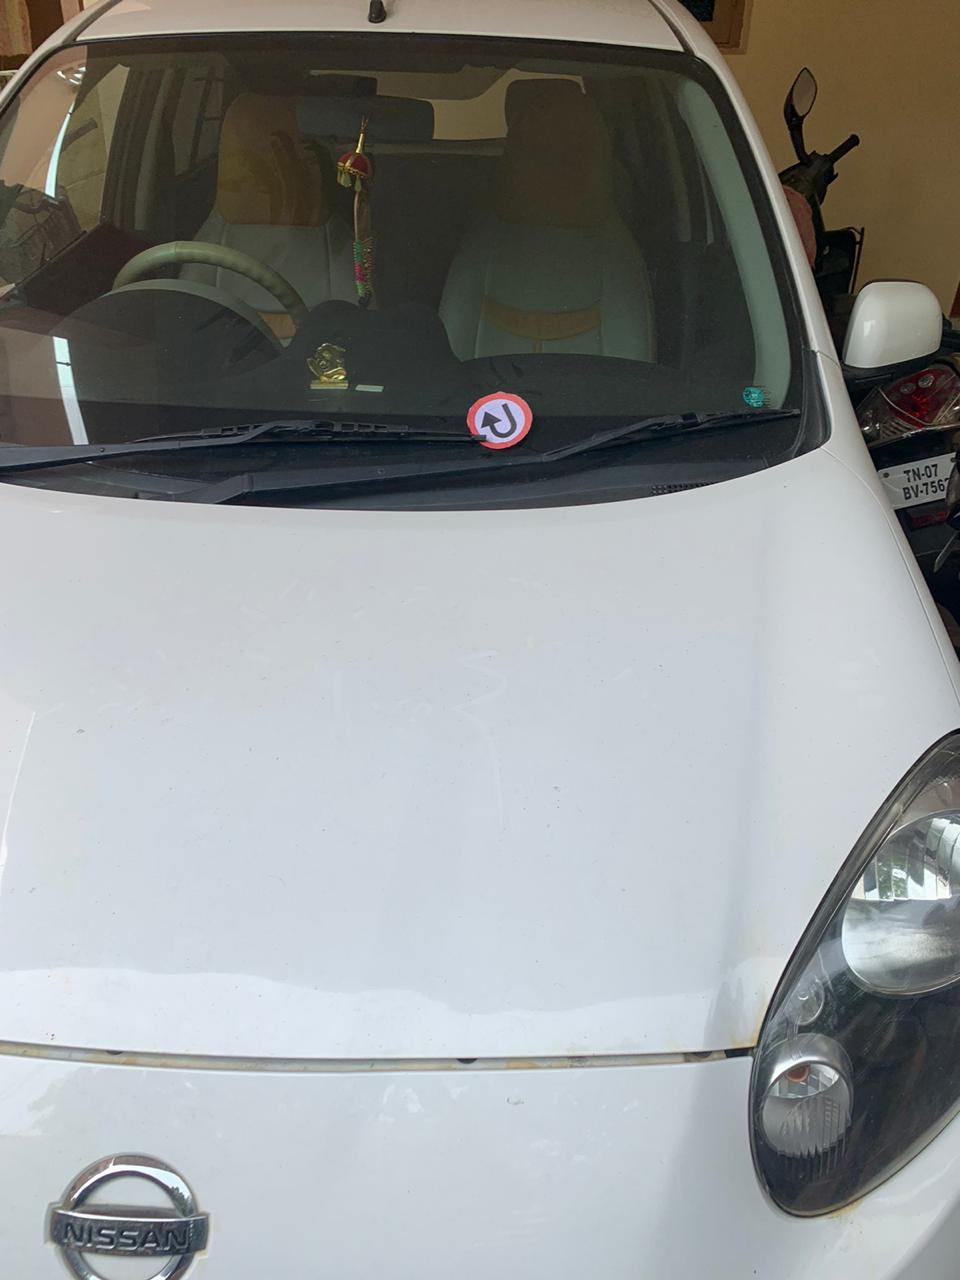U-TURN: (434, 365, 552, 458)
